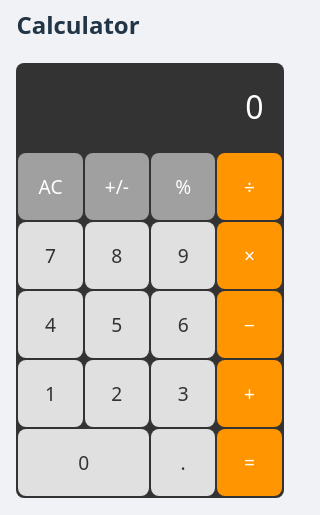
Test: Calculator componant test › should disply digit when clicked
What coordinates should you click on to do the following:
click the button with test id "btn-1"
I would click on:
 (51, 393)
Its box is x1=18 y1=360 x2=83 y2=427.
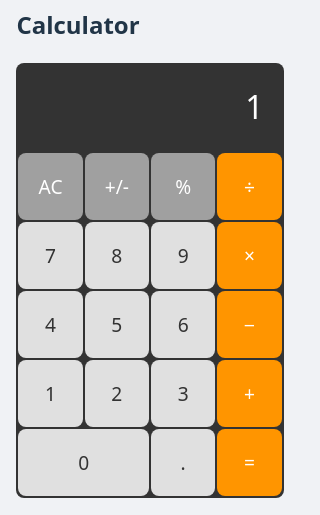
What coordinates should you click on to do the following:
click the button with test id "btn-2"
I would click on:
 (117, 393)
Its box is x1=85 y1=360 x2=149 y2=427.
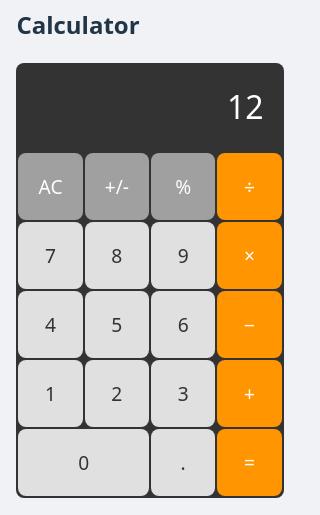
What coordinates should you click on to do the following:
click the button with test id "btn-3"
I would click on:
 (183, 393)
Its box is x1=151 y1=360 x2=215 y2=427.
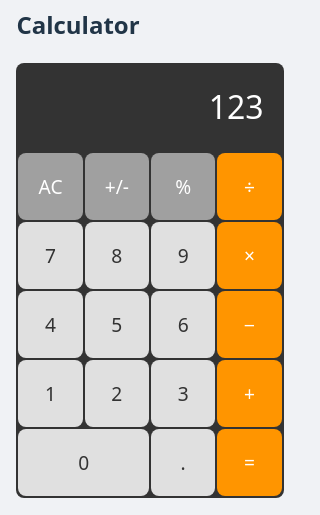
Check: the text with test id "calc-display" reads "123", box x1=209 y1=85 x2=264 y2=128
